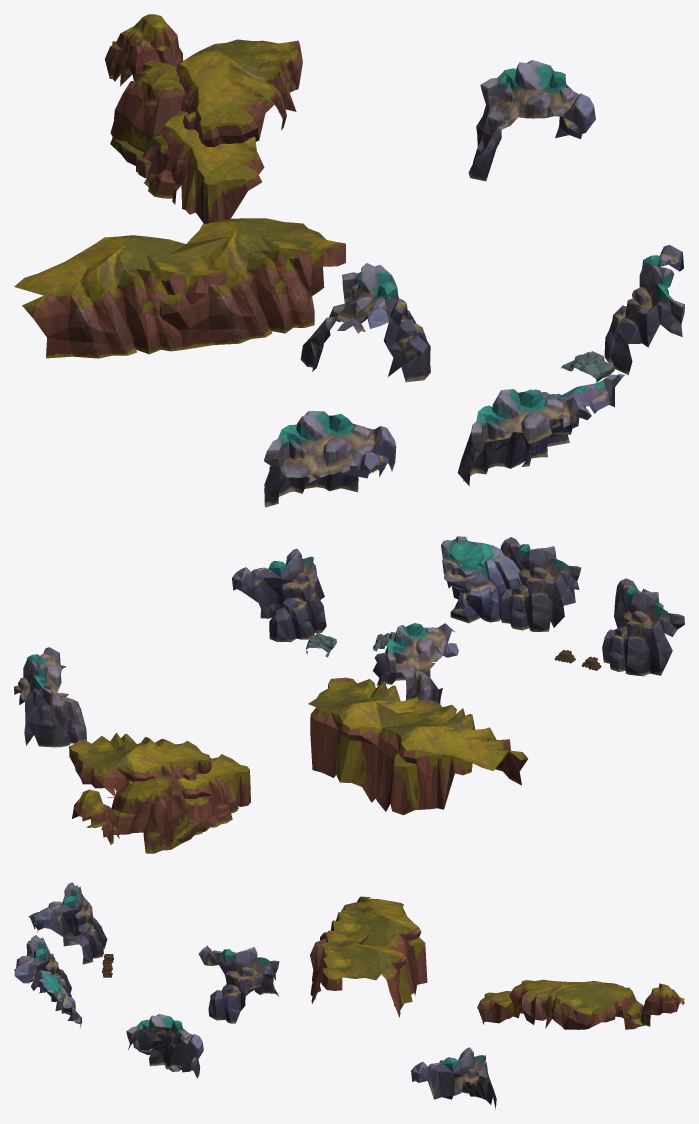
The model's file is yanshi18_1.FBX.
3 renders of one model, top to bottom at view 1: azimuth 30°, elevation 25°; view 2: azimuth 150°, elevation 25°; view 3: azimuth 270°, elevation 25°, orthographic. The views are drawn at different scales.
Parts seen in each view (by area): view 1: yanshi18_1; view 2: yanshi18_1; view 3: yanshi18_1.
Part boxes in pixels (x1,y1,x2,y2): yanshi18_1: [14, 14, 684, 507]; yanshi18_1: [14, 536, 684, 853]; yanshi18_1: [14, 882, 684, 1109].
Bounding box in the file's own units: 6329 × 1283 × 9340.
